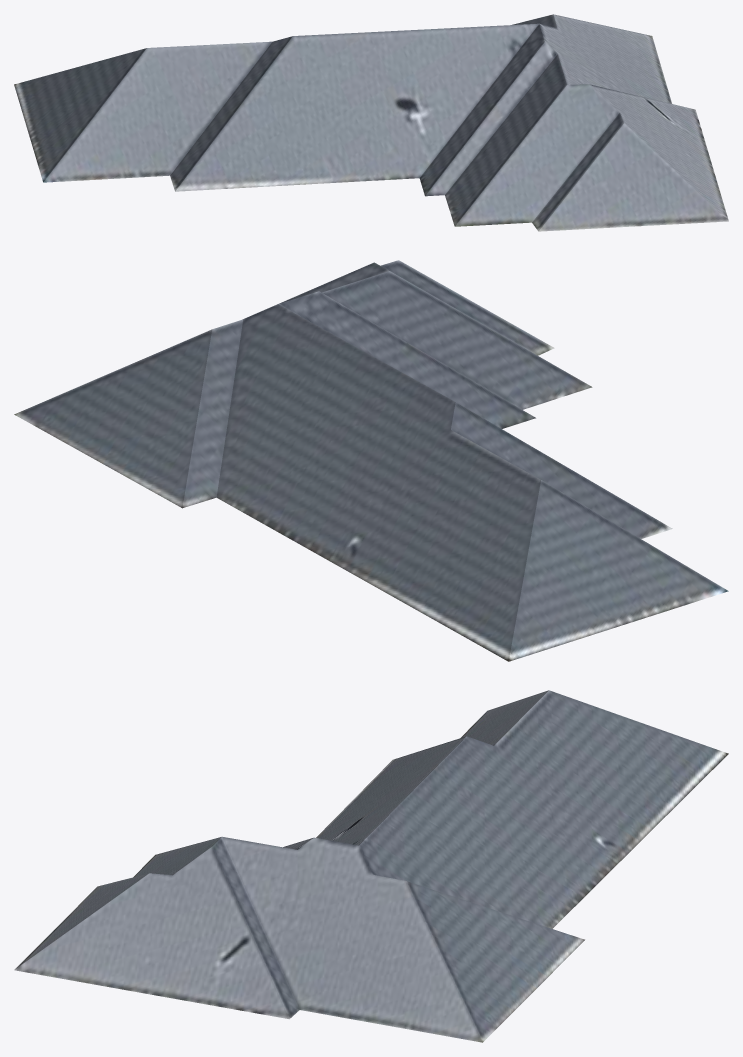
Rendered from CG10_500_044067_0037_roof.obj.
3 renders of one model, top to bottom at view 1: azimuth 30°, elevation 25°; view 2: azimuth 150°, elevation 25°; view 3: azimuth 270°, elevation 25°, orthographic. The views are drawn at different scales.
Parts seen in each view (by area): view 1: CG10_500_044067_0037_roof; view 2: CG10_500_044067_0037_roof; view 3: CG10_500_044067_0037_roof.
Boxes of the visible parts, x1,y1,x2,y2 form: CG10_500_044067_0037_roof: (14,14,728,231); CG10_500_044067_0037_roof: (14,260,728,661); CG10_500_044067_0037_roof: (14,690,728,1042).
Bounding box in the file's own units: 470 × 70 × 428.
Materials: 1 (1 with a texture image).
